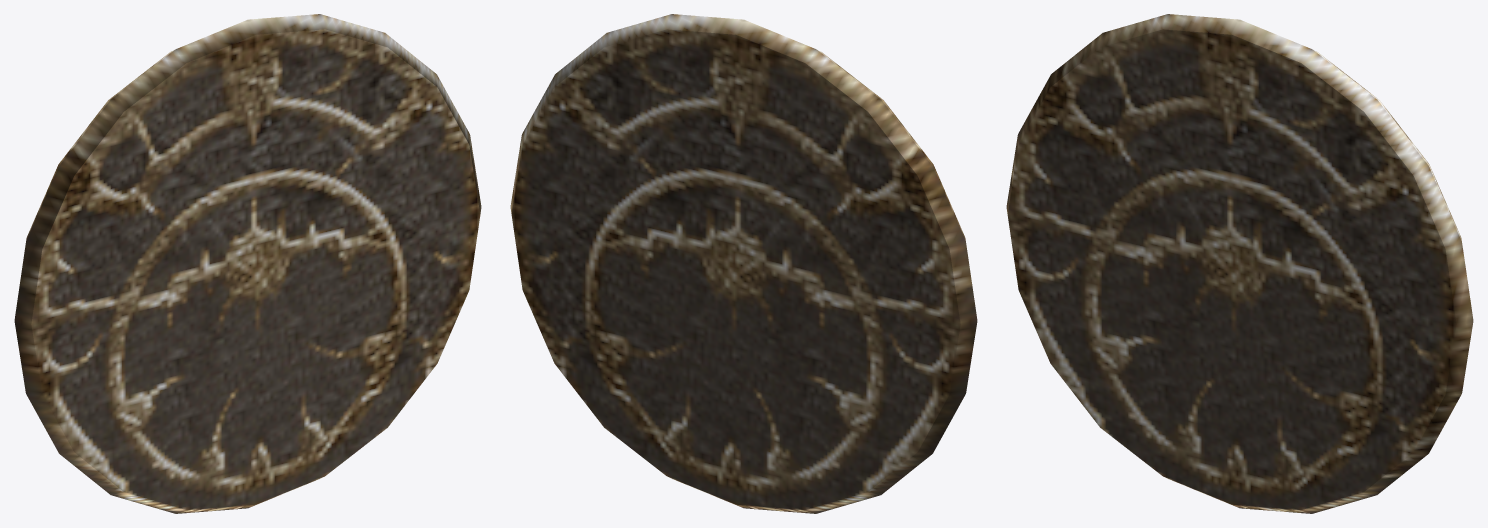
Rendered from view.ico.obj.
The picture shows the model from 3 angles, left to right: view 1: azimuth 30°, elevation 25°; view 2: azimuth 150°, elevation 25°; view 3: azimuth 330°, elevation 25°; orthographic projection.
Size of the model in its own units: 4.27 by 4.27 by 0.25.
1 material, 1 textured.
